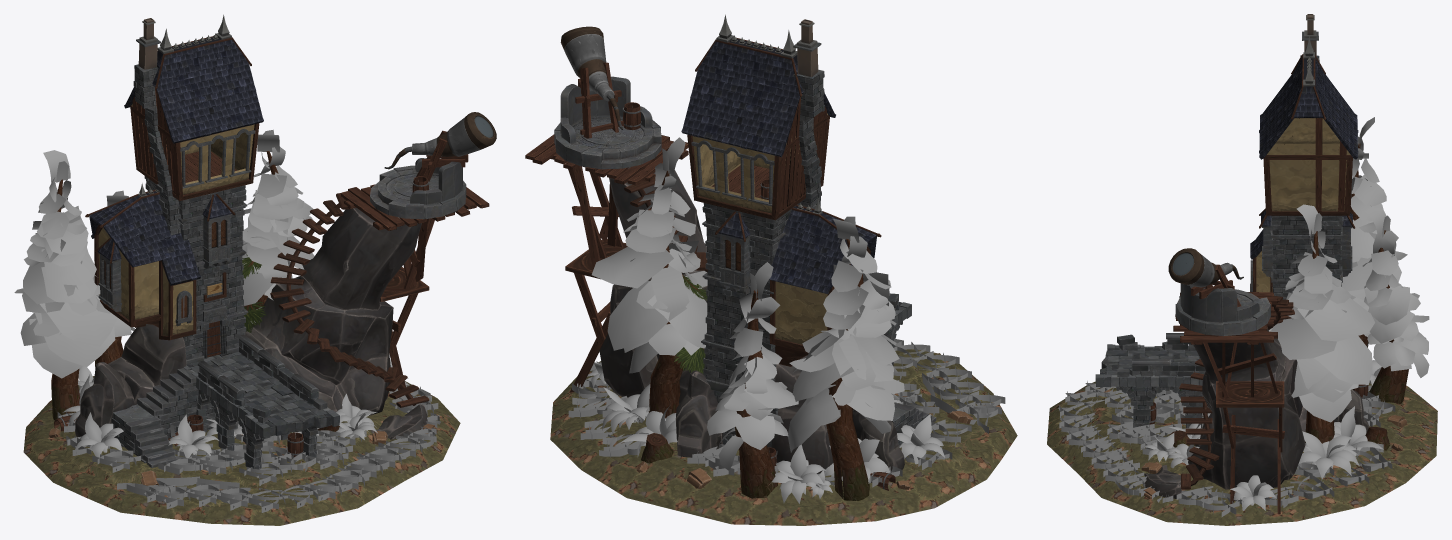
3 views of the same model, side by side, from view 1: azimuth 30°, elevation 25°; view 2: azimuth 150°, elevation 25°; view 3: azimuth 270°, elevation 25° (orthographic). The views are drawn at different scales.
Visible parts, largest first — view 1: Group1_Low001_UV, Cylinder047_UV, Object373, Uniques_UV, Grass_031, Object368, Object374, Object323_UV, Object377, Object371, Object286_UV, Object301 (+24 smaller); view 2: Cylinder047_UV, Object373, Object374, Group1_Low001_UV, Object368, Plane174, Uniques_UV, Object375, Object286_UV, Object376, Object371, Grass_031 (+22 smaller); view 3: Cylinder047_UV, Object374, Group1_Low001_UV, Object376, Plane174, Object377, Object368, Uniques_UV, Object373, Object300, Object284, Grass_031 (+18 smaller).
Boxes of the visible parts, x1,y1,x2,y2 form: Group1_Low001_UV: (75, 207, 427, 439); Cylinder047_UV: (23, 376, 460, 525); Object373: (14, 150, 117, 378); Uniques_UV: (85, 14, 259, 364); Grass_031: (117, 414, 346, 512); Object368: (124, 39, 263, 143); Object374: (242, 129, 314, 323); Object323_UV: (183, 352, 339, 438); Object377: (292, 393, 440, 491); Object371: (89, 191, 200, 285); Object286_UV: (146, 179, 245, 358); Object301: (125, 334, 318, 467); Cylinder047_UV: (550, 361, 1017, 525); Object373: (787, 216, 904, 452); Object374: (591, 137, 707, 373); Group1_Low001_UV: (599, 167, 904, 473); Object368: (681, 41, 835, 157); Plane174: (707, 262, 798, 470); Uniques_UV: (687, 14, 881, 392); Object375: (687, 414, 971, 503); Object286_UV: (703, 202, 800, 384); Object376: (568, 361, 677, 457); Object371: (769, 206, 876, 293); Grass_031: (893, 339, 1005, 433); Cylinder047_UV: (1047, 381, 1437, 525); Object374: (1269, 204, 1374, 422); Group1_Low001_UV: (1144, 327, 1369, 498); Object376: (1176, 406, 1392, 516); Plane174: (1362, 207, 1429, 377); Object377: (1066, 422, 1202, 502); Object368: (1259, 57, 1357, 159); Uniques_UV: (1250, 14, 1352, 292); Object373: (1341, 117, 1410, 336); Object300: (1168, 248, 1284, 407); Object284: (1269, 160, 1346, 211); Grass_031: (1058, 381, 1210, 434).
Bounding box in the file's own units: 76.77 × 72.77 × 65.19.
17 materials, 10 textured.
